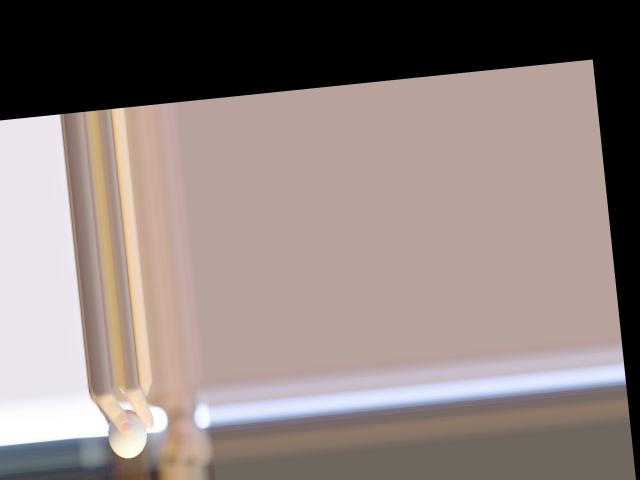egg: (106, 406, 150, 459)
